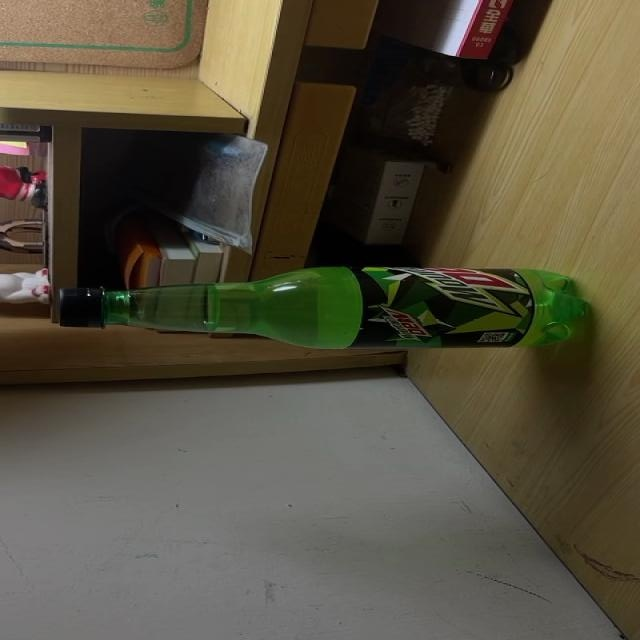Mountain-Dew: (52, 265, 592, 350)
